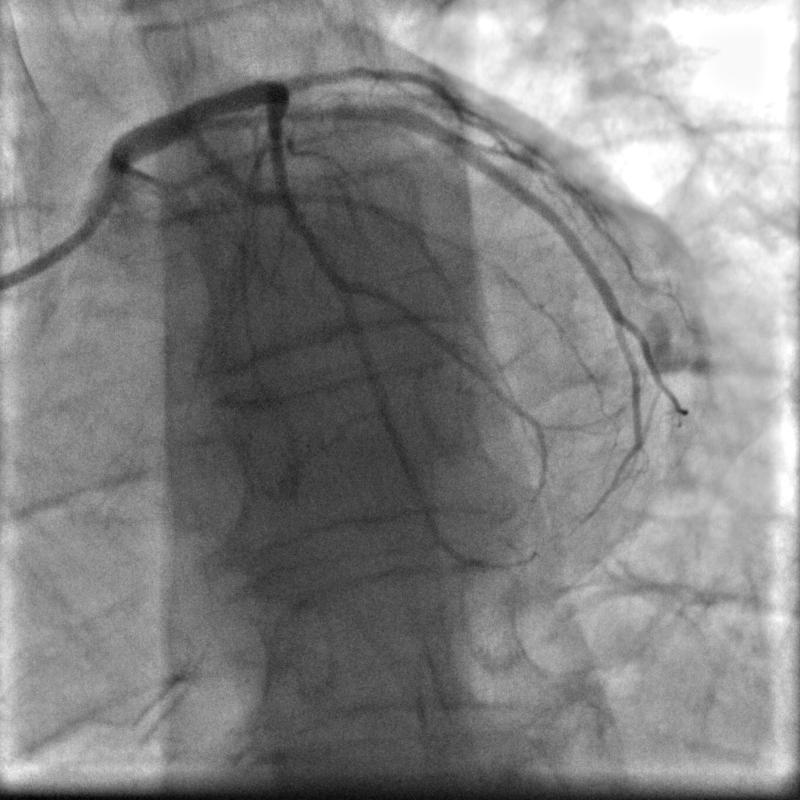Stenosis: (266, 113, 291, 158)
